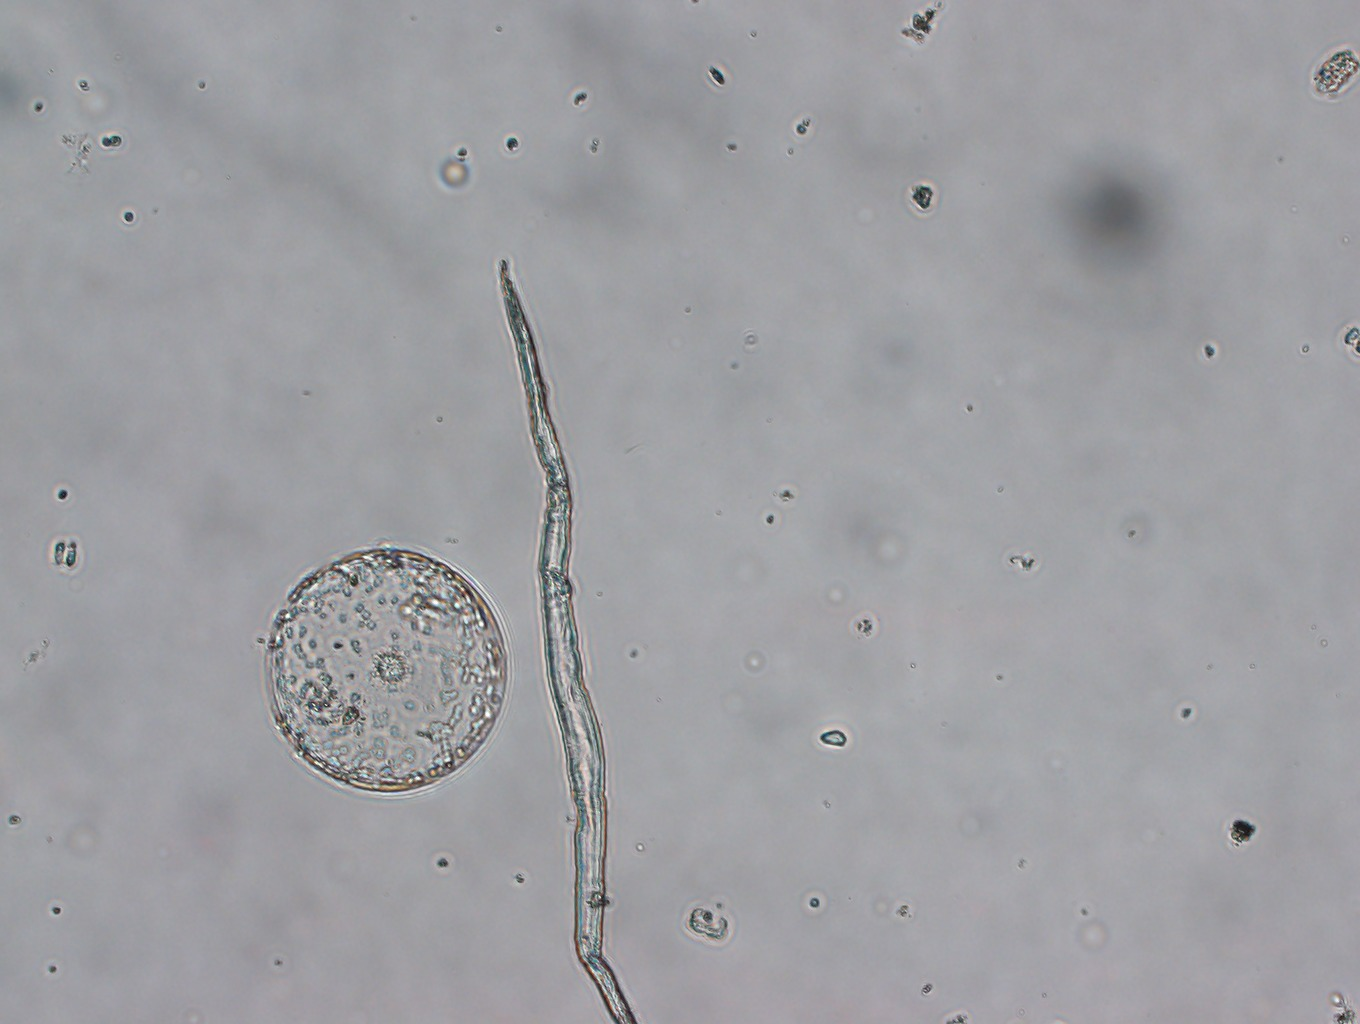chaetoceros: (255, 537, 517, 802)
